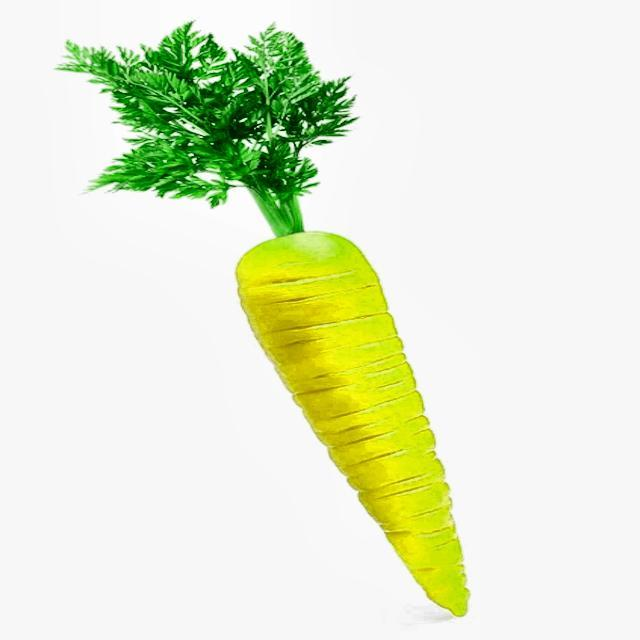carrot: (60, 22, 469, 616)
